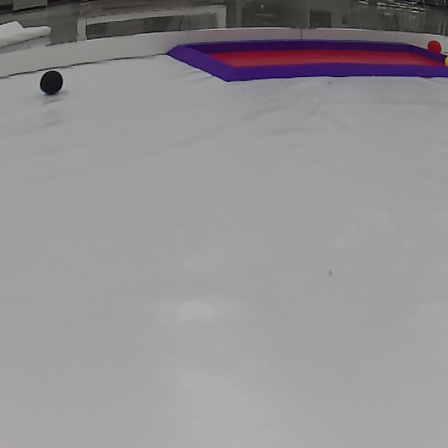black: (40, 71, 63, 96)
red: (428, 41, 443, 54)
red_aim: (168, 36, 448, 83)
